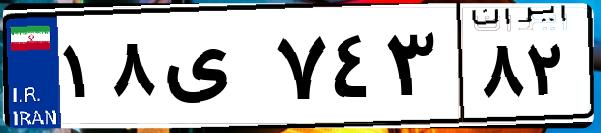1: (57, 26, 110, 100)
2: (525, 38, 570, 115)
3: (385, 28, 445, 110)
4: (330, 28, 385, 110)
7: (270, 28, 330, 110)
8: (475, 38, 525, 113), (110, 28, 158, 98)
ی: (158, 20, 270, 120)
